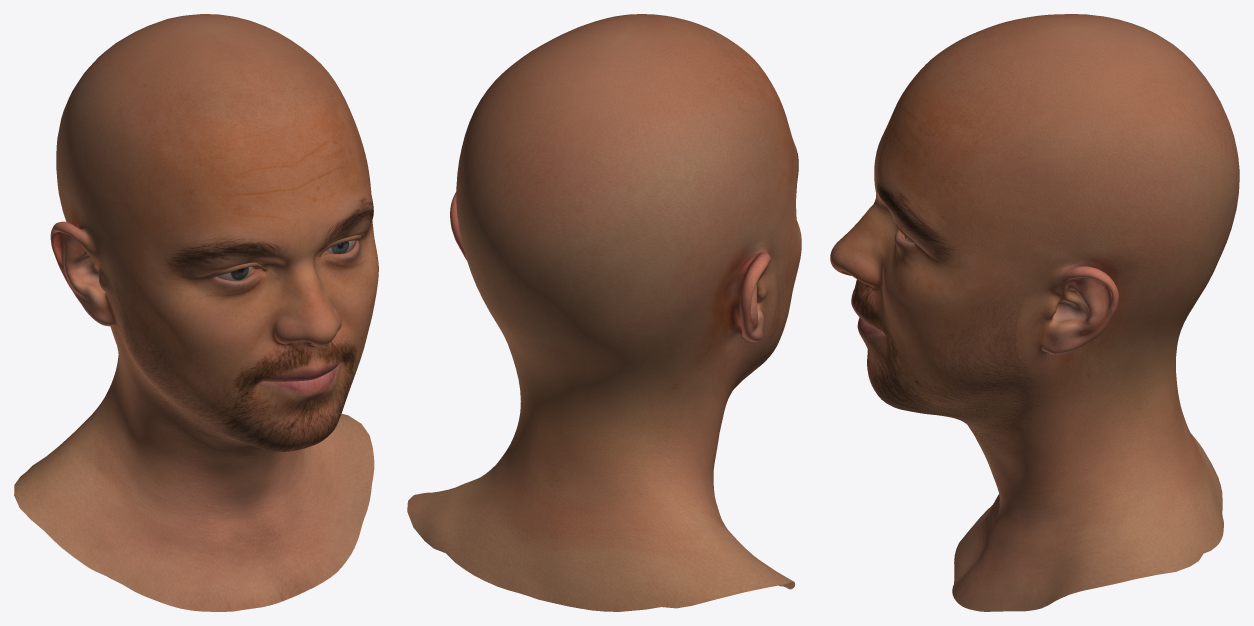
3 views of the same model, side by side, from view 1: azimuth 30°, elevation 25°; view 2: azimuth 150°, elevation 25°; view 3: azimuth 270°, elevation 25° (orthographic). The views are drawn at different scales.
Parts seen in each view (by area): view 1: Registered head; view 2: Registered head; view 3: Registered head.
Boxes of the visible parts, x1,y1,x2,y2 form: Registered head: (14, 14, 378, 611); Registered head: (407, 14, 801, 611); Registered head: (830, 14, 1239, 611).
Bounding box in the file's own units: 1.26 × 1.88 × 1.26.
3 materials, 3 textured.
